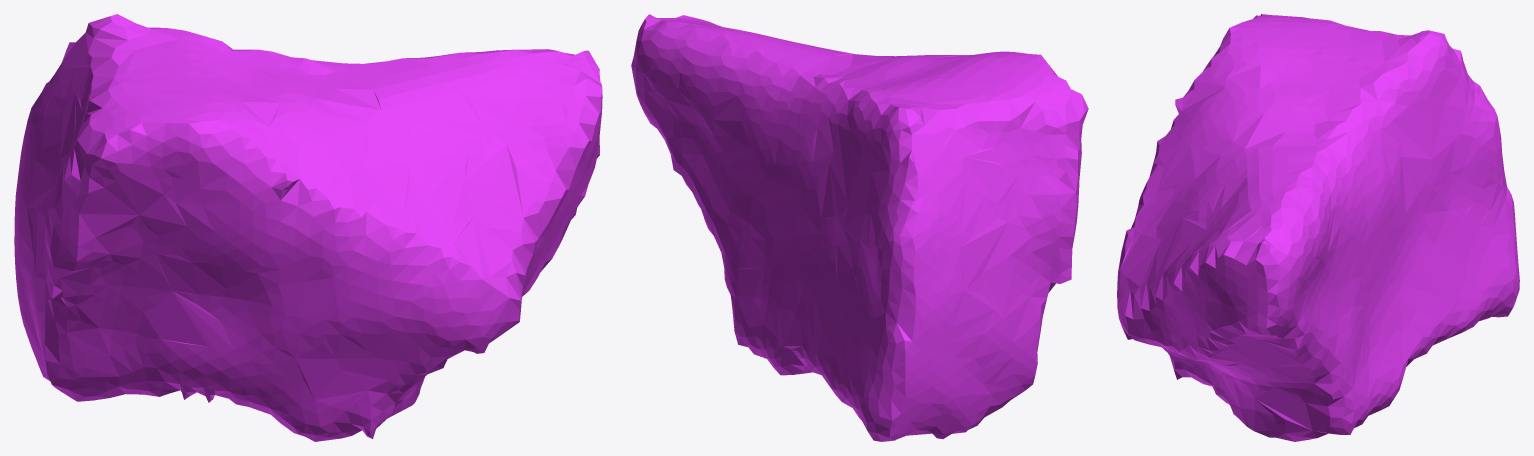
The model's file is Model_44_RH__Area_11_of_cortex_(A11).obj.
The picture shows the model from 3 angles, left to right: view 1: azimuth 30°, elevation 25°; view 2: azimuth 150°, elevation 25°; view 3: azimuth 270°, elevation 25°; orthographic projection. The views are drawn at different scales.
Bounding box in the file's own units: 3.2 × 2.19 × 2.48.
